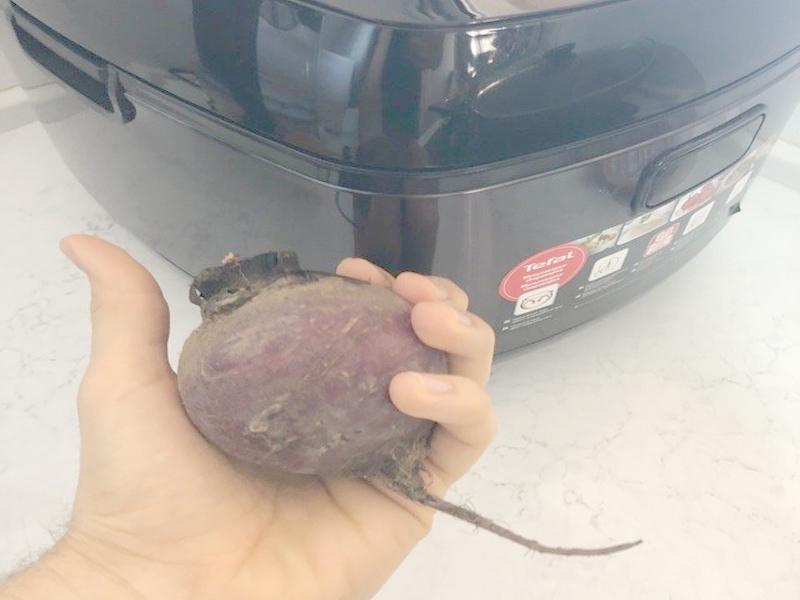Beet: (178, 251, 644, 557)
